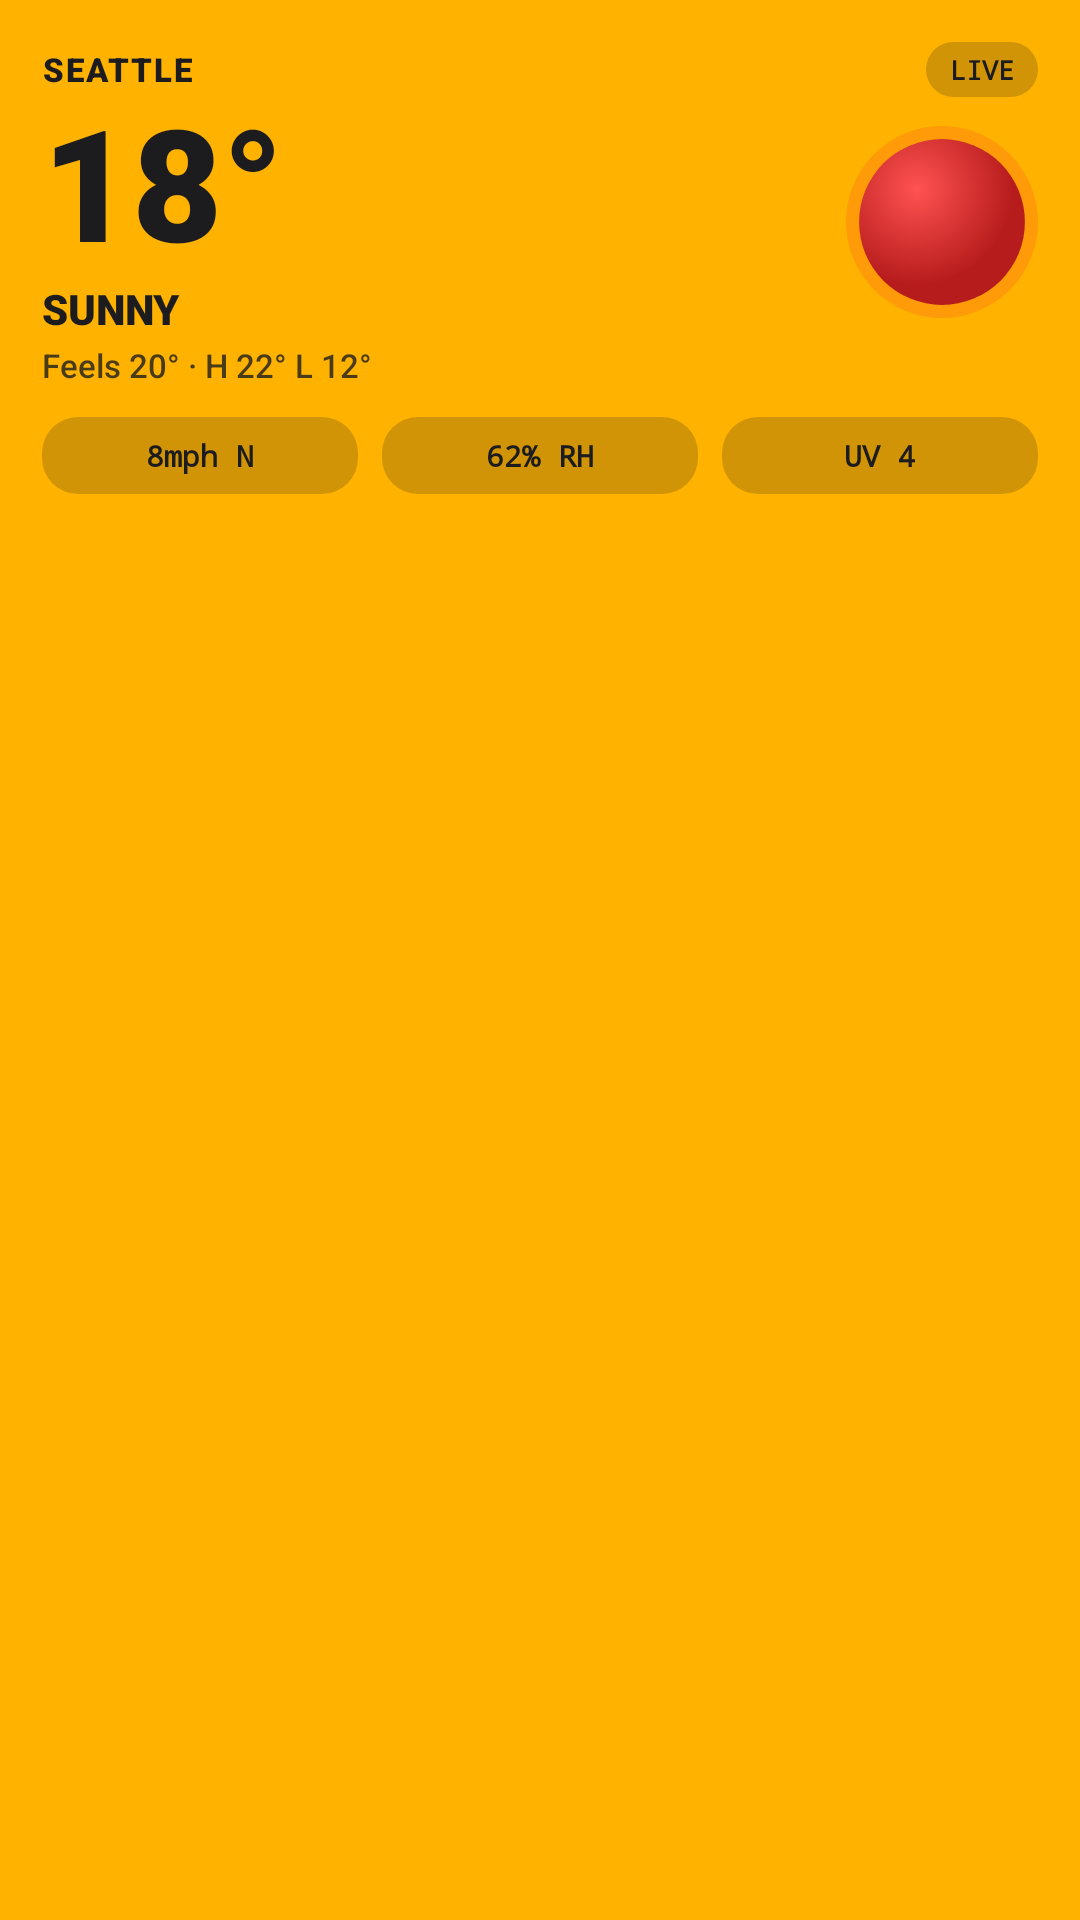

Icons on this 1080 x 1920 Android screen, each with its box as (x1=x1, y1=y1, x2=x2, y2=y2):
Temperature with red sun orb (2×2): (x1=846, y1=126, x2=1038, y2=318)
